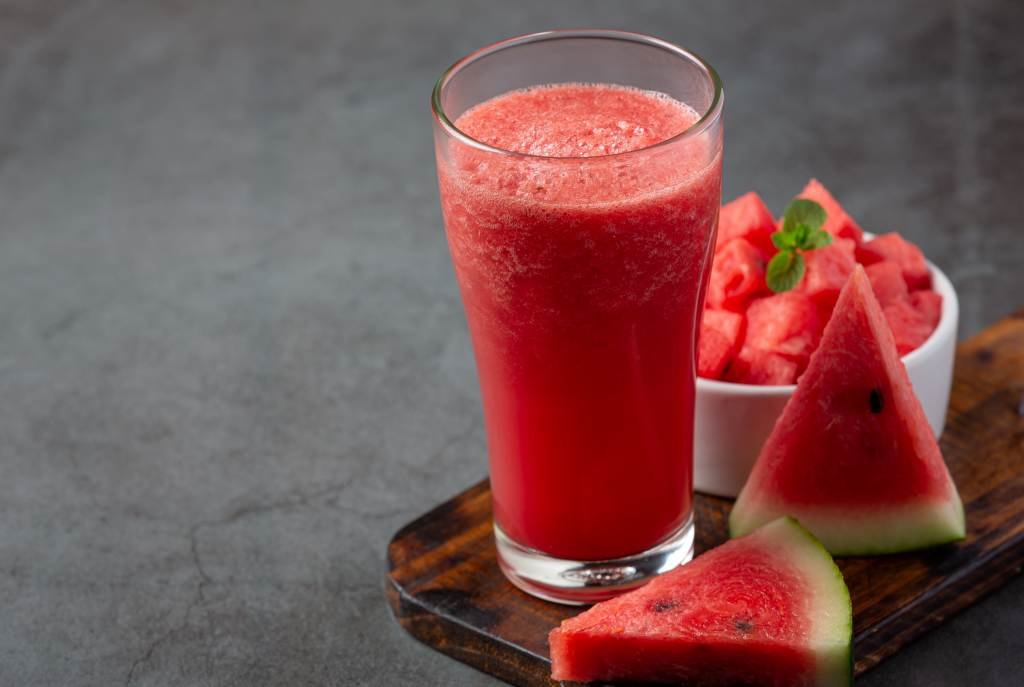Semangka: (721, 275, 942, 547), (536, 520, 843, 687)
